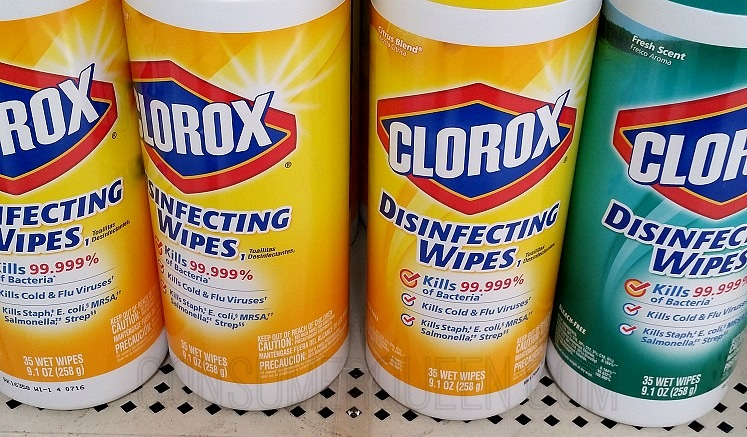Wipes: (360, 2, 611, 424), (122, 1, 355, 414), (546, 1, 747, 431), (1, 1, 168, 415)
